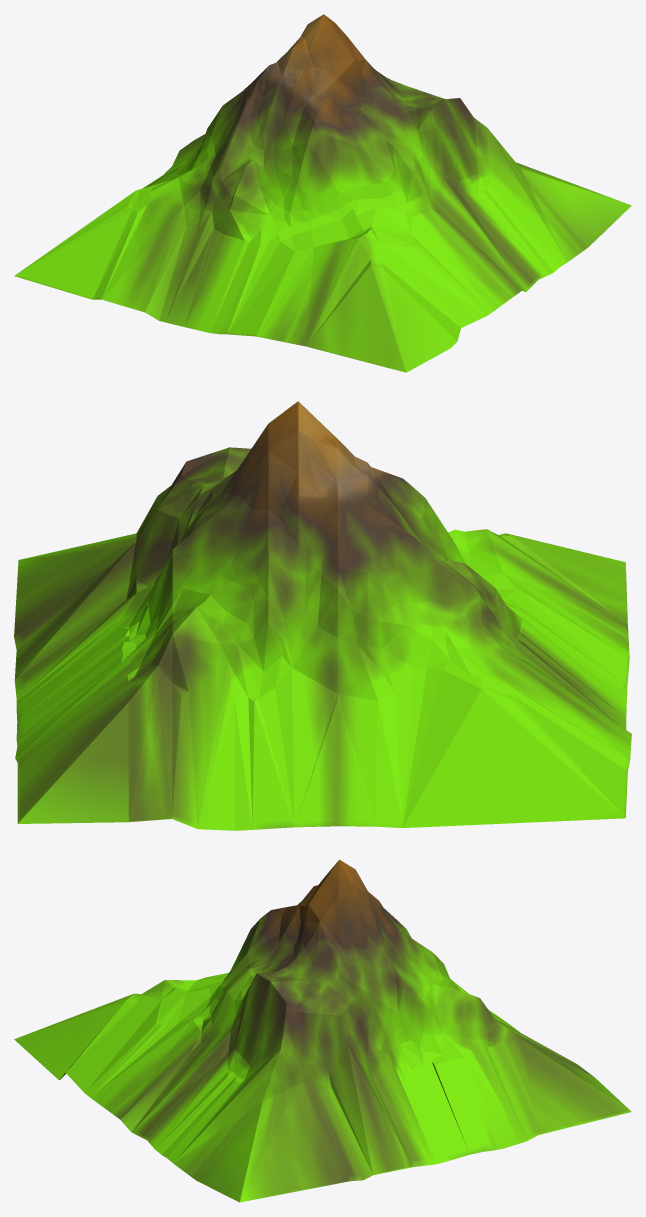
The model's file is bgmtns_TerrainMesh.fbx.
3 views of the same model, one above another, from view 1: azimuth 30°, elevation 25°; view 2: azimuth 150°, elevation 25°; view 3: azimuth 270°, elevation 25° (orthographic). The views are drawn at different scales.
Visible parts, largest first — view 1: TerrainMesh; view 2: TerrainMesh; view 3: TerrainMesh.
Part boxes in pixels (box(x1,y1,x2,y2)): TerrainMesh: box(14, 14, 631, 372); TerrainMesh: box(14, 401, 631, 830); TerrainMesh: box(14, 859, 631, 1202).
Size of the model in its own units: 278 by 113 by 279.
Materials: 1 (1 with a texture image).
